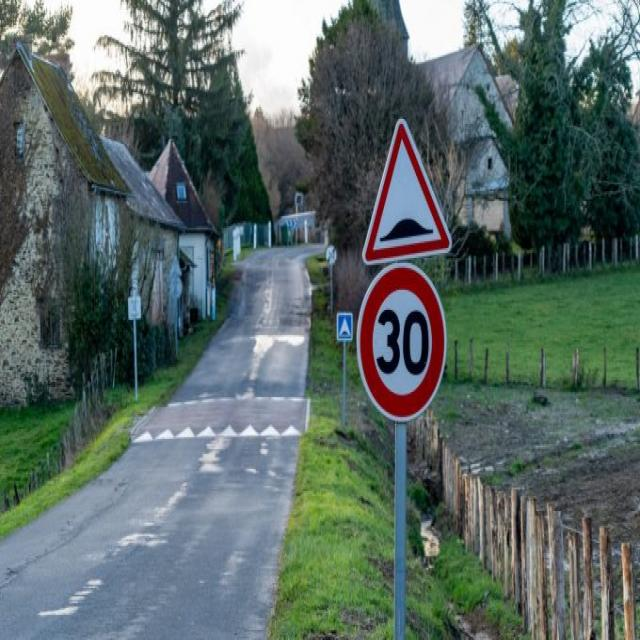hump: (359, 111, 460, 270)
